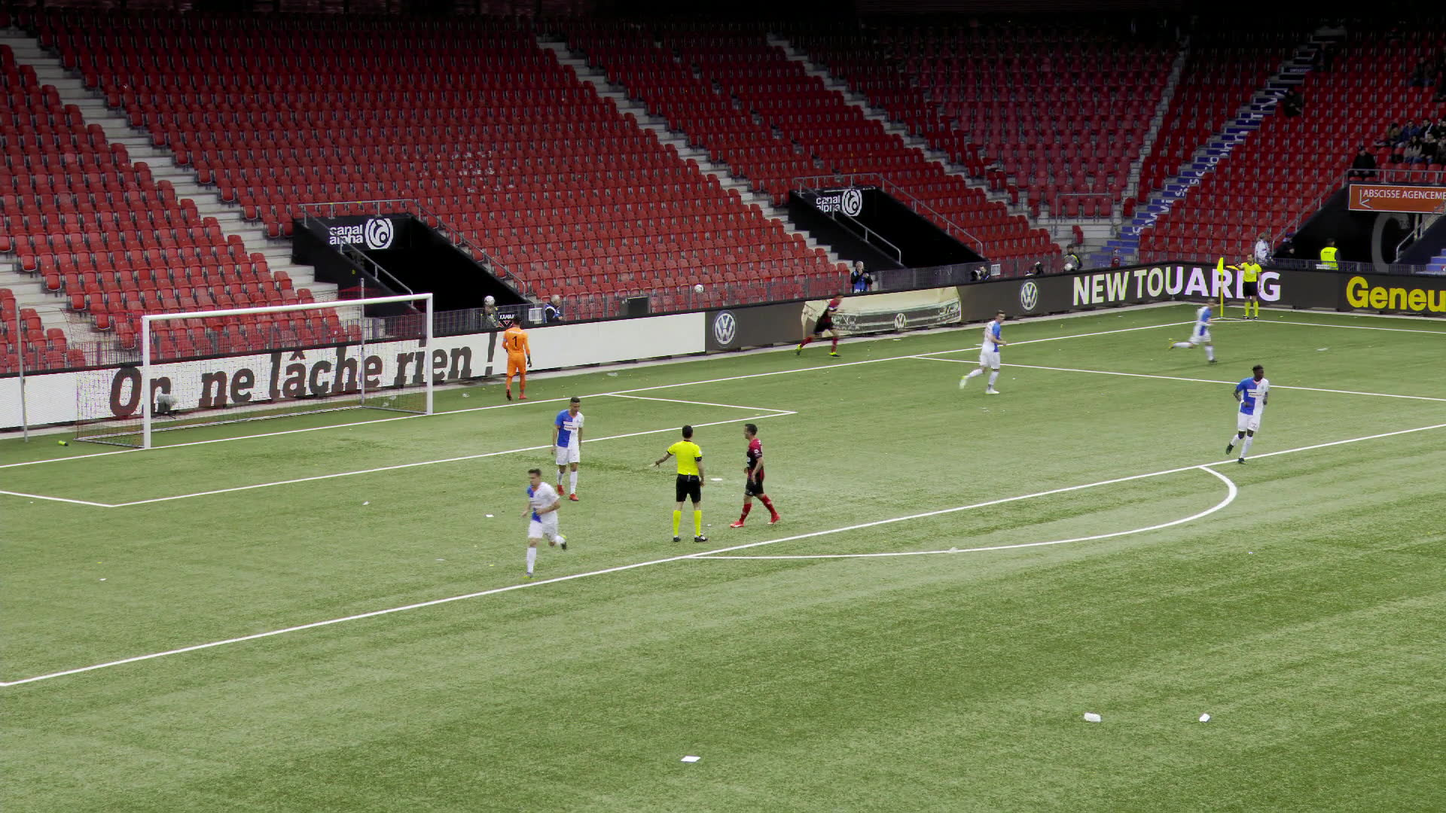ball: (484, 296, 494, 306)
player: (731, 424, 781, 528), (520, 468, 566, 577), (1225, 365, 1269, 464), (959, 309, 1006, 394), (1167, 297, 1219, 364), (552, 397, 583, 501), (794, 292, 842, 358), (502, 314, 531, 400)
referee: (648, 425, 706, 542), (1235, 253, 1262, 319)
